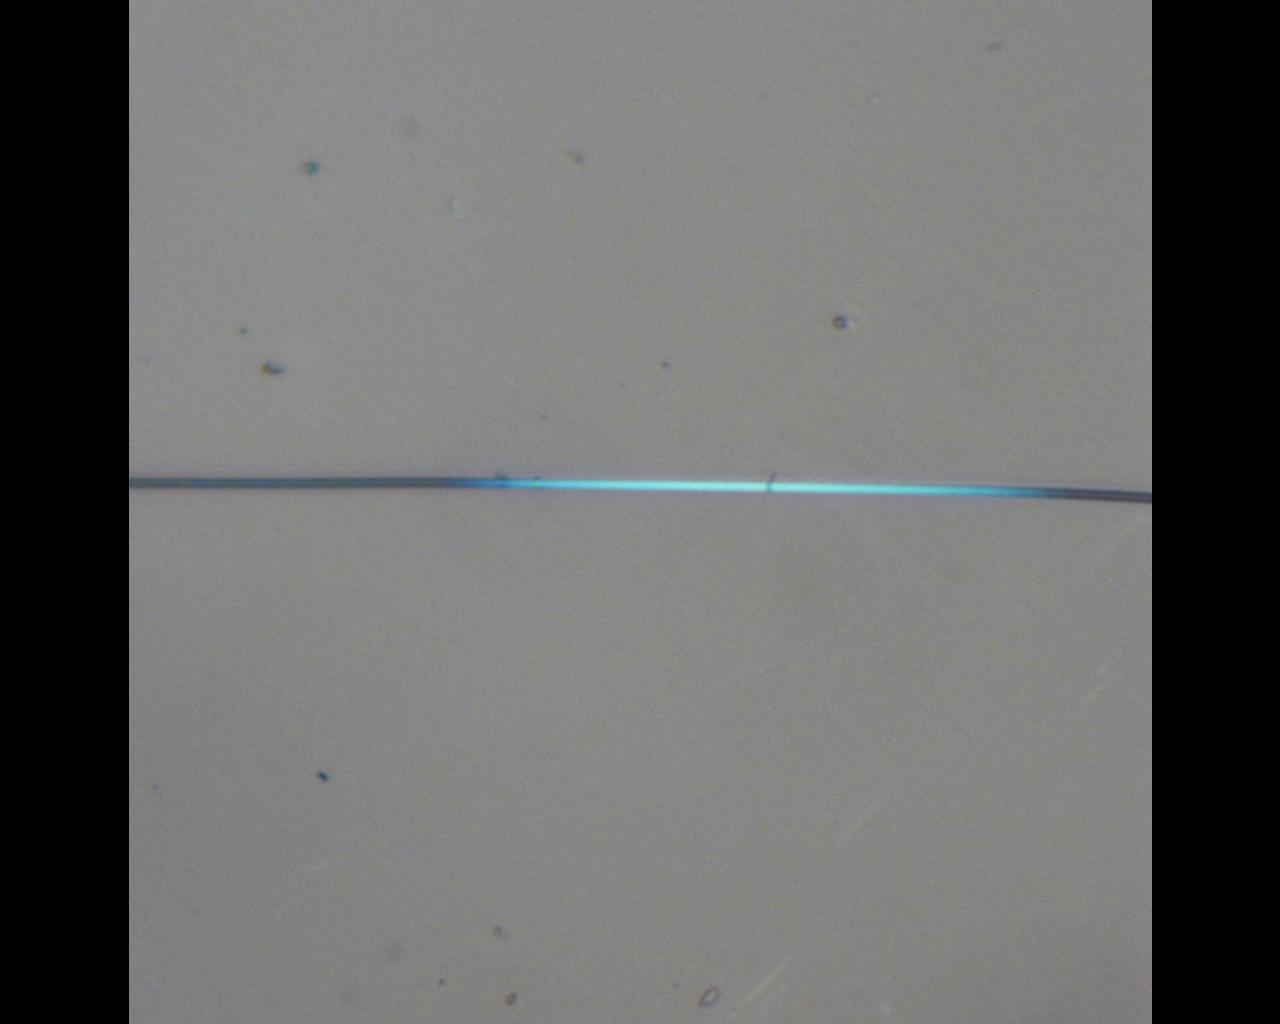fiber: (127, 479, 1151, 505)
